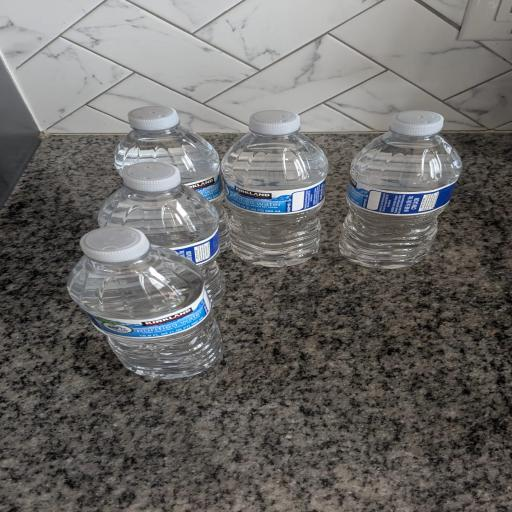waterbottle: (68, 228, 222, 378), (340, 111, 461, 268), (98, 162, 223, 305), (222, 111, 328, 266), (115, 107, 229, 251)
